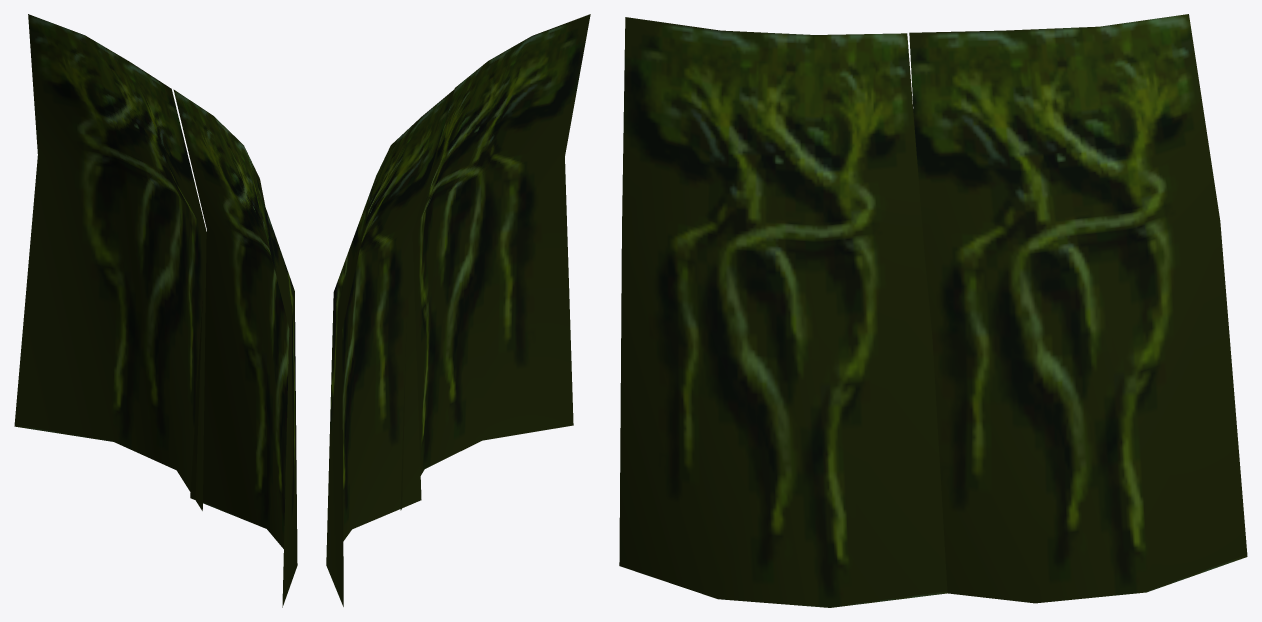
File: EKH_CAVERNS_PS_CA_WALL_VINES_06498.fbx
3 views of the same model, side by side, from view 1: azimuth 30°, elevation 25°; view 2: azimuth 150°, elevation 25°; view 3: azimuth 270°, elevation 25° (orthographic). The views are drawn at different scales.
Parts seen in each view (by area): view 1: EKH_CAVERNS_PS_CA_WALL_VINES_06498; view 2: EKH_CAVERNS_PS_CA_WALL_VINES_06498; view 3: EKH_CAVERNS_PS_CA_WALL_VINES_06498.
Part boxes in pixels (x1,y1,x2,y2): EKH_CAVERNS_PS_CA_WALL_VINES_06498: (14,14,297,607); EKH_CAVERNS_PS_CA_WALL_VINES_06498: (326,14,590,606); EKH_CAVERNS_PS_CA_WALL_VINES_06498: (619,14,1247,607).
Bounding box in the file's own units: 6312 × 27670 × 29336.
1 material, 1 textured.
